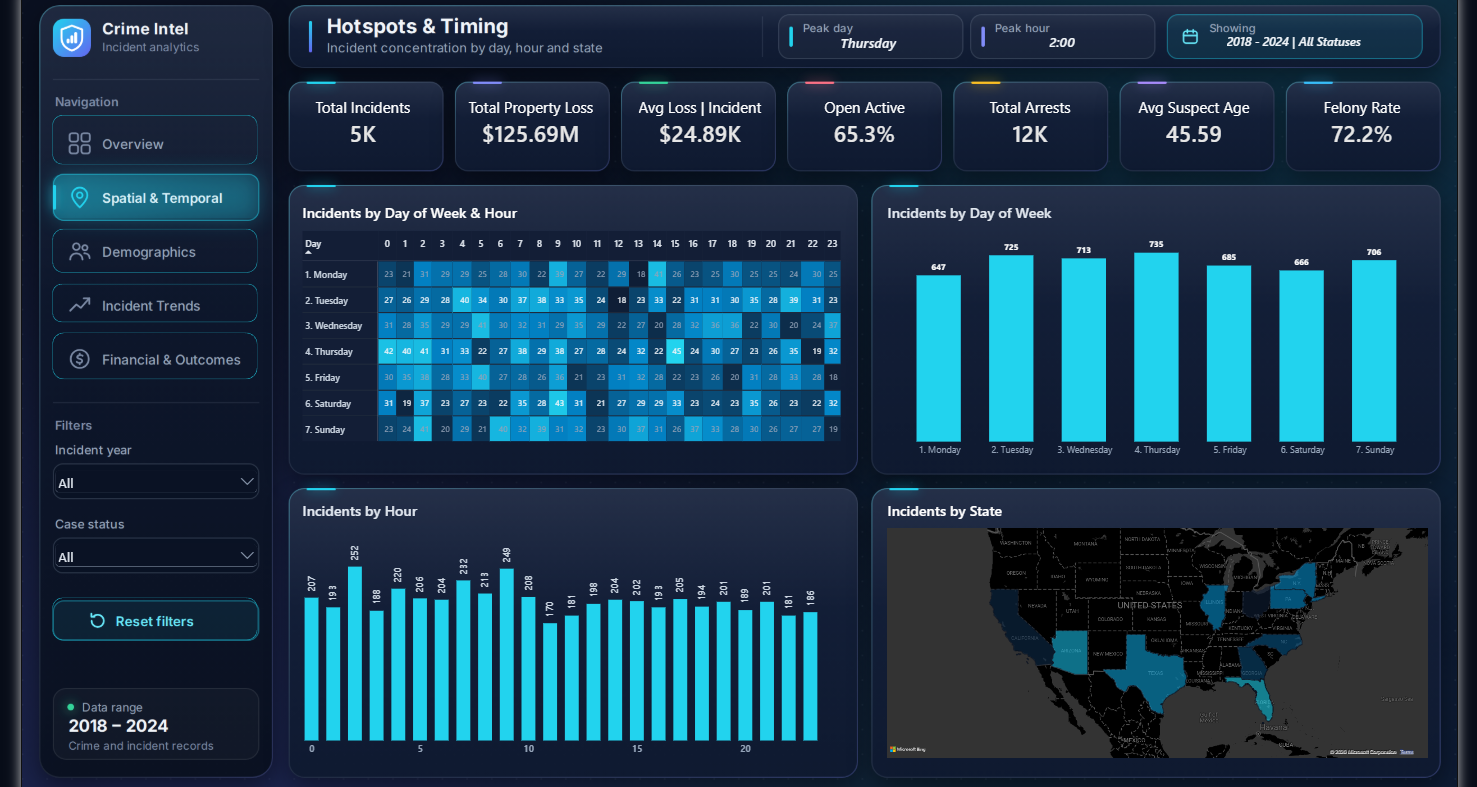

This screenshot's page, from the dashboard's own definition file:
{"tool":"powerbi","page":{"name":"Spatial & Temporal Analysis","canvas":[2560,1440],"ordinal":1},"visuals":[{"type":"slicer","fields":{"Values":["crime_incidents_cleaned.incident_year"]},"box":[56.4,851.5,370.6,44.2],"z":0},{"type":"slicer","fields":{"Values":["crime_incidents_cleaned.case_status"]},"box":[56.4,981.6,370.6,49.1],"z":1000},{"type":"pivotTable","title":"Incidents by Day of Week & Hour","fields":{"Columns":["crime_incidents_cleaned.incident_hour_clean"],"Rows":["crime_incidents_cleaned.Day_Name_Sorted"],"Values":["Measures (2).Total Incidents"]},"box":[485.9,365.6,1011,485.9],"z":2000},{"type":"filledMap","title":"Incidents by State","fields":{"Category":["crime_incidents_cleaned.state"]},"box":[1526.4,895.7,993.9,488.3],"z":3000},{"type":"clusteredColumnChart","title":"Incidents by Hour","fields":{"Category":["crime_incidents_cleaned.incident_hour_clean"],"Y":["Measures (2).Total Incidents"]},"box":[485.9,895.7,991.4,488.3],"z":4000},{"type":"clusteredColumnChart","title":"Incidents by Day of Week","fields":{"Category":["crime_incidents_cleaned.Day_Name_Sorted"],"Y":["Measures (2).Total Incidents"]},"box":[1526.4,365.6,993.9,485.9],"z":5000},{"type":"actionButton","box":[55.7,329.5,367.3,77.9],"z":6000},{"type":"actionButton","box":[56.4,424.5,365.6,78.5],"z":7000},{"type":"shape","box":[56.4,223.3,365.6,88.3],"z":8000},{"type":"shape","box":[56.4,424.5,365.6,78.5],"z":9000},{"type":"shape","box":[56.4,522.7,365.6,68.7],"z":10000},{"type":"shape","box":[56.4,611,365.6,83.4],"z":11000},{"type":"shape","box":[56.4,1082.2,365.6,76.1],"z":12000},{"type":"cardVisual","fields":{"Data":["Measures (2).Total Incidents"]},"box":[485.9,176.7,247.9,135],"z":13000},{"type":"cardVisual","fields":{"Data":["Measures (2).Total Property Loss"]},"box":[777.9,176.7,262.6,135],"z":14000},{"type":"cardVisual","fields":{"Data":["Measures (2).Avg Loss Per Incident"]},"box":[1082.2,176.7,255.2,135],"z":15000},{"type":"cardVisual","fields":{"Data":["Measures (2).Total Arrests"]},"box":[1668.7,176.7,255.2,135],"z":16000},{"type":"cardVisual","fields":{"Data":["Measures (2).Open Active Pct"]},"box":[1371.8,176.7,262.6,135],"z":17000},{"type":"cardVisual","fields":{"Data":["Measures (2).Avg Suspect Age"]},"box":[1955.8,176.7,269.9,135],"z":18000},{"type":"cardVisual","fields":{"Data":["Measures (2).Felony Rate Pct"]},"box":[2255.2,176.7,267.5,135],"z":19000},{"type":"cardVisual","fields":{"Data":["Measures (2).Spatial Fact 1"]},"box":[1350.5,56.5,316.6,73.6],"z":19001},{"type":"cardVisual","fields":{"Data":["Measures (2).Spatial Fact 2"]},"box":[1696,54,316.6,73.6],"z":19002},{"type":"cardVisual","fields":{"Data":["Measures (2).Header Showing"]},"box":[2041.5,63.2,451.7,56.5],"z":19003}]}

Visuals, with their boxes on the page's 2560x1440 design canvas (x1, y1, x2, y2). These are canvas units, not pixel positions in the 1477x787 screenshot, which may show the page scaled, cropped or inside an application window:
slicer - crime_incidents_cleaned.incident_year: bbox=(56, 852, 427, 896)
slicer - crime_incidents_cleaned.case_status: bbox=(56, 982, 427, 1031)
"Incidents by Day of Week & Hour" pivotTable: bbox=(486, 366, 1497, 852)
"Incidents by State" filledMap: bbox=(1526, 896, 2520, 1384)
"Incidents by Hour" clusteredColumnChart: bbox=(486, 896, 1477, 1384)
"Incidents by Day of Week" clusteredColumnChart: bbox=(1526, 366, 2520, 852)
actionButton: bbox=(56, 330, 423, 407)
actionButton: bbox=(56, 424, 422, 503)
shape: bbox=(56, 223, 422, 312)
shape: bbox=(56, 424, 422, 503)
shape: bbox=(56, 523, 422, 591)
shape: bbox=(56, 611, 422, 694)
shape: bbox=(56, 1082, 422, 1158)
cardVisual - Measures (2).Total Incidents: bbox=(486, 177, 734, 312)
cardVisual - Measures (2).Total Property Loss: bbox=(778, 177, 1040, 312)
cardVisual - Measures (2).Avg Loss Per Incident: bbox=(1082, 177, 1337, 312)
cardVisual - Measures (2).Total Arrests: bbox=(1669, 177, 1924, 312)
cardVisual - Measures (2).Open Active Pct: bbox=(1372, 177, 1634, 312)
cardVisual - Measures (2).Avg Suspect Age: bbox=(1956, 177, 2226, 312)
cardVisual - Measures (2).Felony Rate Pct: bbox=(2255, 177, 2523, 312)
cardVisual - Measures (2).Spatial Fact 1: bbox=(1350, 56, 1667, 130)
cardVisual - Measures (2).Spatial Fact 2: bbox=(1696, 54, 2013, 128)
cardVisual - Measures (2).Header Showing: bbox=(2042, 63, 2493, 120)
